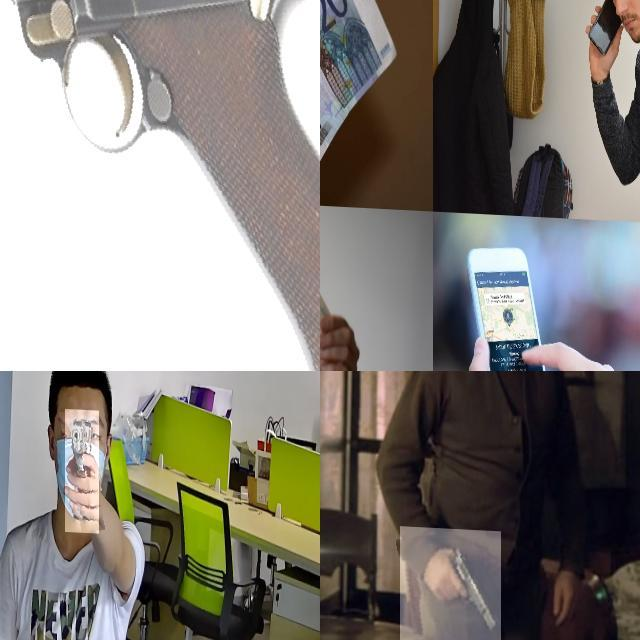gun-knife-thesis - v11 Yolov5 augmented: (0, 0, 320, 371), (399, 524, 501, 640), (65, 405, 99, 529)
